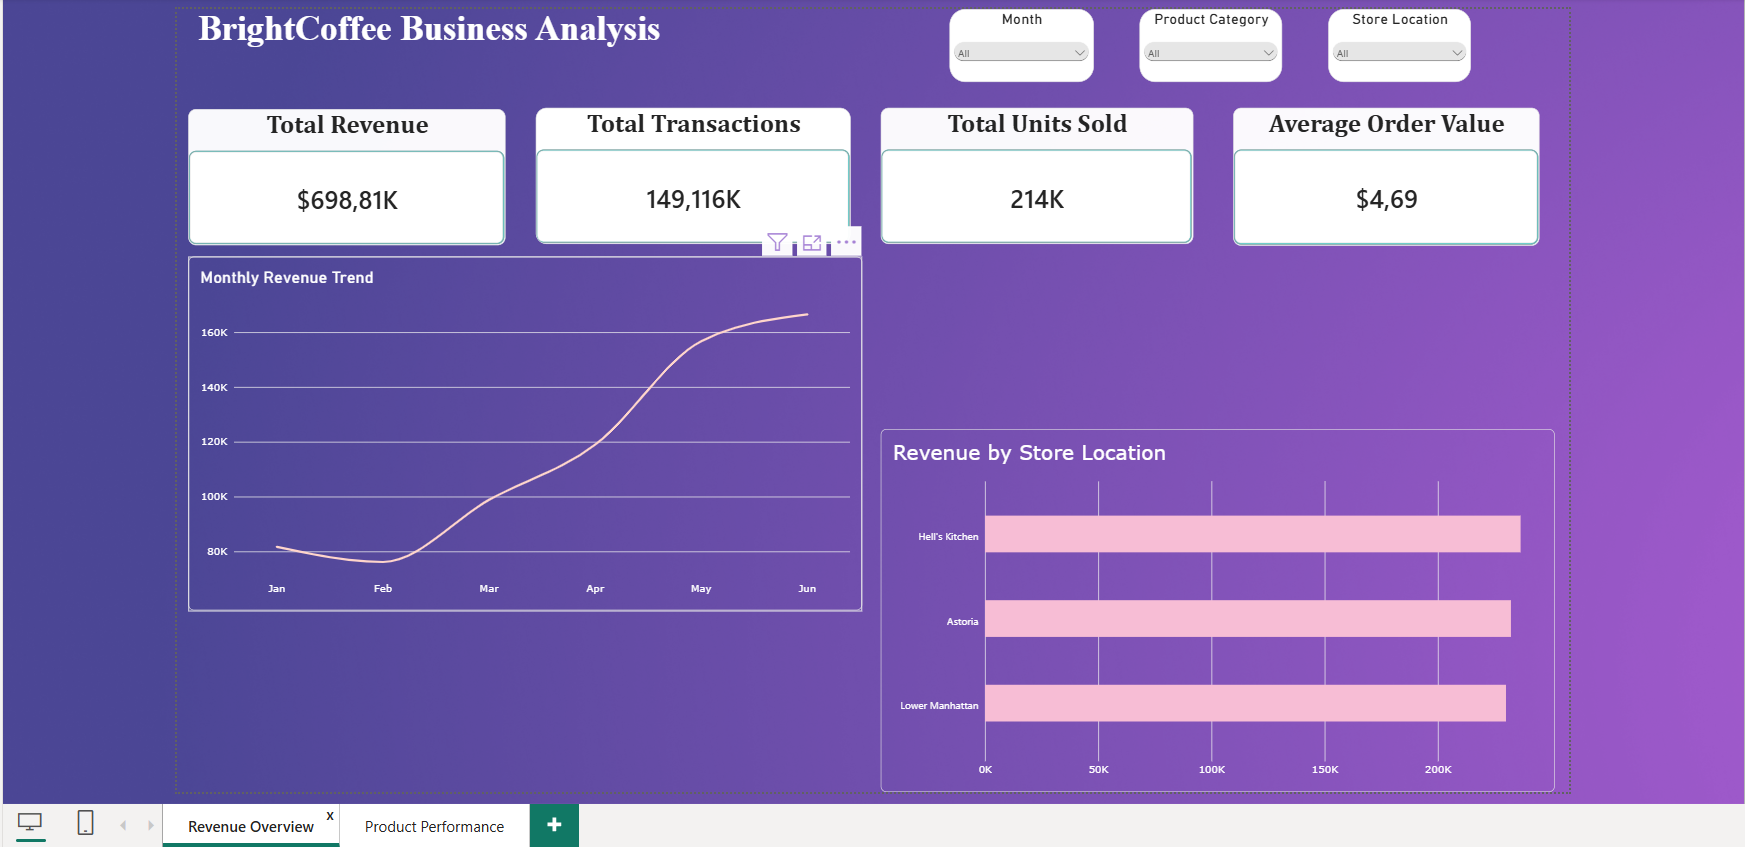

The dashboard page shown, as its layout file describes it:
{"tool":"powerbi","page":{"name":"Revenue Overview","canvas":[1920,1080],"ordinal":0},"visuals":[{"type":"cardVisual","title":"Total Revenue","fields":{"Data":["result.Total Revenue"]},"box":[15.7,137.8,437.8,188.4],"z":0},{"type":"textbox","box":[29.7,0,659.3,94.2],"z":1000},{"type":"cardVisual","title":"Total Transactions","fields":{"Data":["CountNonNull(result.transaction_id)"]},"box":[495.4,136,434.3,188.4],"z":2000},{"type":"cardVisual","title":"Total Units Sold","fields":{"Data":["Sum(result.transaction_qty)"]},"box":[971.5,136,430.8,188.4],"z":3000},{"type":"cardVisual","title":"Average Order Value","fields":{"Data":["result.Average Order Value"]},"box":[1456.4,136,422.1,190.1],"z":4000},{"type":"lineChart","title":"Monthly Revenue Trend ","fields":{"Y":["Sum(result.total_amount)"],"Category":["result.Month Name"]},"box":[15.7,341.9,929.7,488.4],"z":5000},{"type":"clusteredBarChart","title":"Revenue by Store Location","fields":{"Category":["result.store_location"],"Y":["Sum(result.total_amount)"]},"box":[971.5,579.1,929.7,500.6],"z":6000},{"type":"slicer","title":"Month","fields":{"Values":["result.Month Name"]},"box":[1065.7,0,198.8,101.2],"z":7000},{"type":"slicer","title":"Product Category","fields":{"Values":["result.product_category"]},"box":[1327.3,0,197.1,101.2],"z":8000},{"type":"slicer","title":"Store Location","fields":{"Values":["result.store_location"]},"box":[1587.2,0,197.1,101.2],"z":9000}]}

Visuals, with their boxes on the page's 1920x1080 design canvas (x1, y1, x2, y2). These are canvas units, not pixel positions in the 1745x847 screenshot, which may show the page scaled, cropped or inside an application window:
"Total Revenue" cardVisual: BBox(16, 138, 454, 326)
textbox: BBox(30, 0, 689, 94)
"Total Transactions" cardVisual: BBox(495, 136, 930, 324)
"Total Units Sold" cardVisual: BBox(972, 136, 1402, 324)
"Average Order Value" cardVisual: BBox(1456, 136, 1878, 326)
"Monthly Revenue Trend " lineChart: BBox(16, 342, 945, 830)
"Revenue by Store Location" clusteredBarChart: BBox(972, 579, 1901, 1080)
"Month" slicer: BBox(1066, 0, 1264, 101)
"Product Category" slicer: BBox(1327, 0, 1524, 101)
"Store Location" slicer: BBox(1587, 0, 1784, 101)
